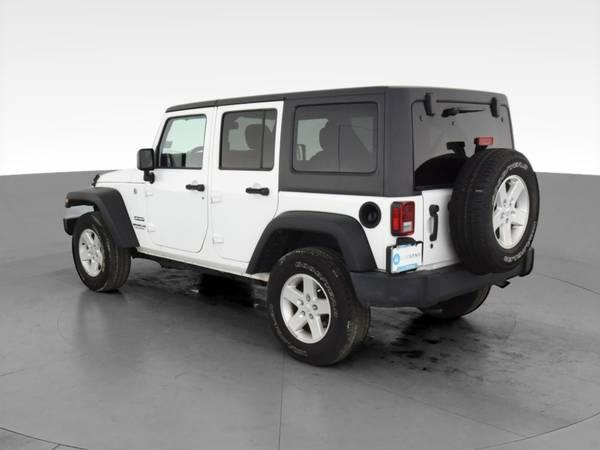Front_Fender: (64, 167, 147, 253)
Front_Left_Door: (145, 168, 207, 264)
Front_Left_Window: (144, 100, 218, 170)
Left_Taillight: (390, 196, 416, 236)
Rear_Bumper: (351, 248, 534, 306)
Rear_Fender: (248, 89, 395, 275)
Rear_Left_Door: (203, 170, 279, 271)
Rear_Left_Window: (211, 96, 287, 172)
Rear_Windshield: (412, 99, 514, 195)
Roof: (382, 87, 507, 197)
Tailgate: (389, 188, 459, 271)
Wheel: (264, 242, 369, 359), (448, 148, 540, 270), (70, 214, 131, 295)
